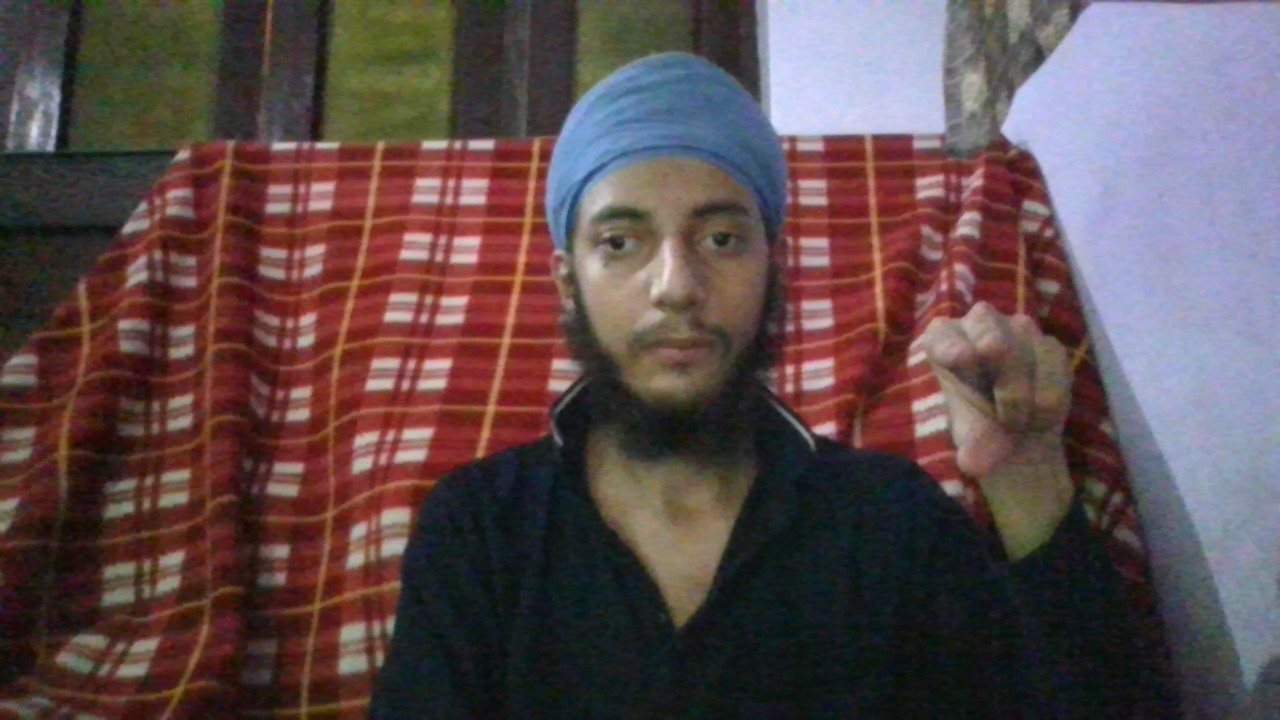No: (929, 305, 1077, 484)
